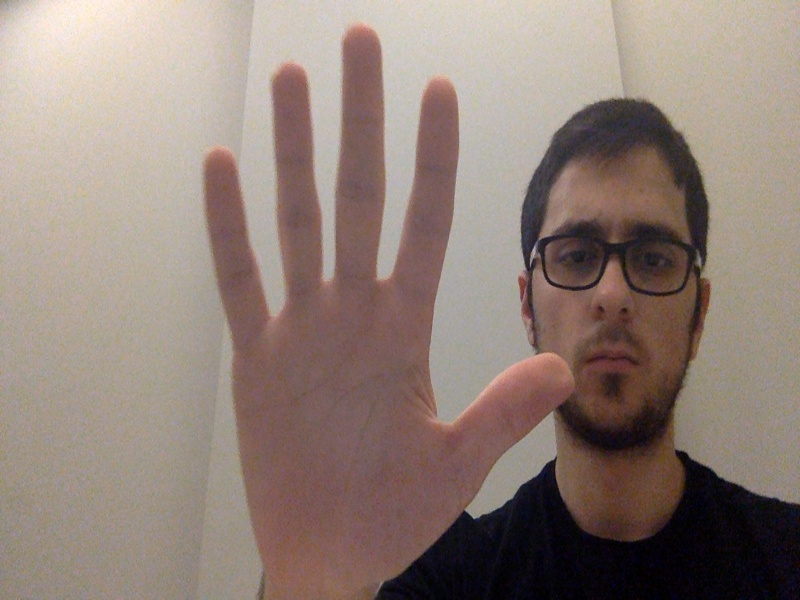5-hand: (200, 21, 572, 582)
